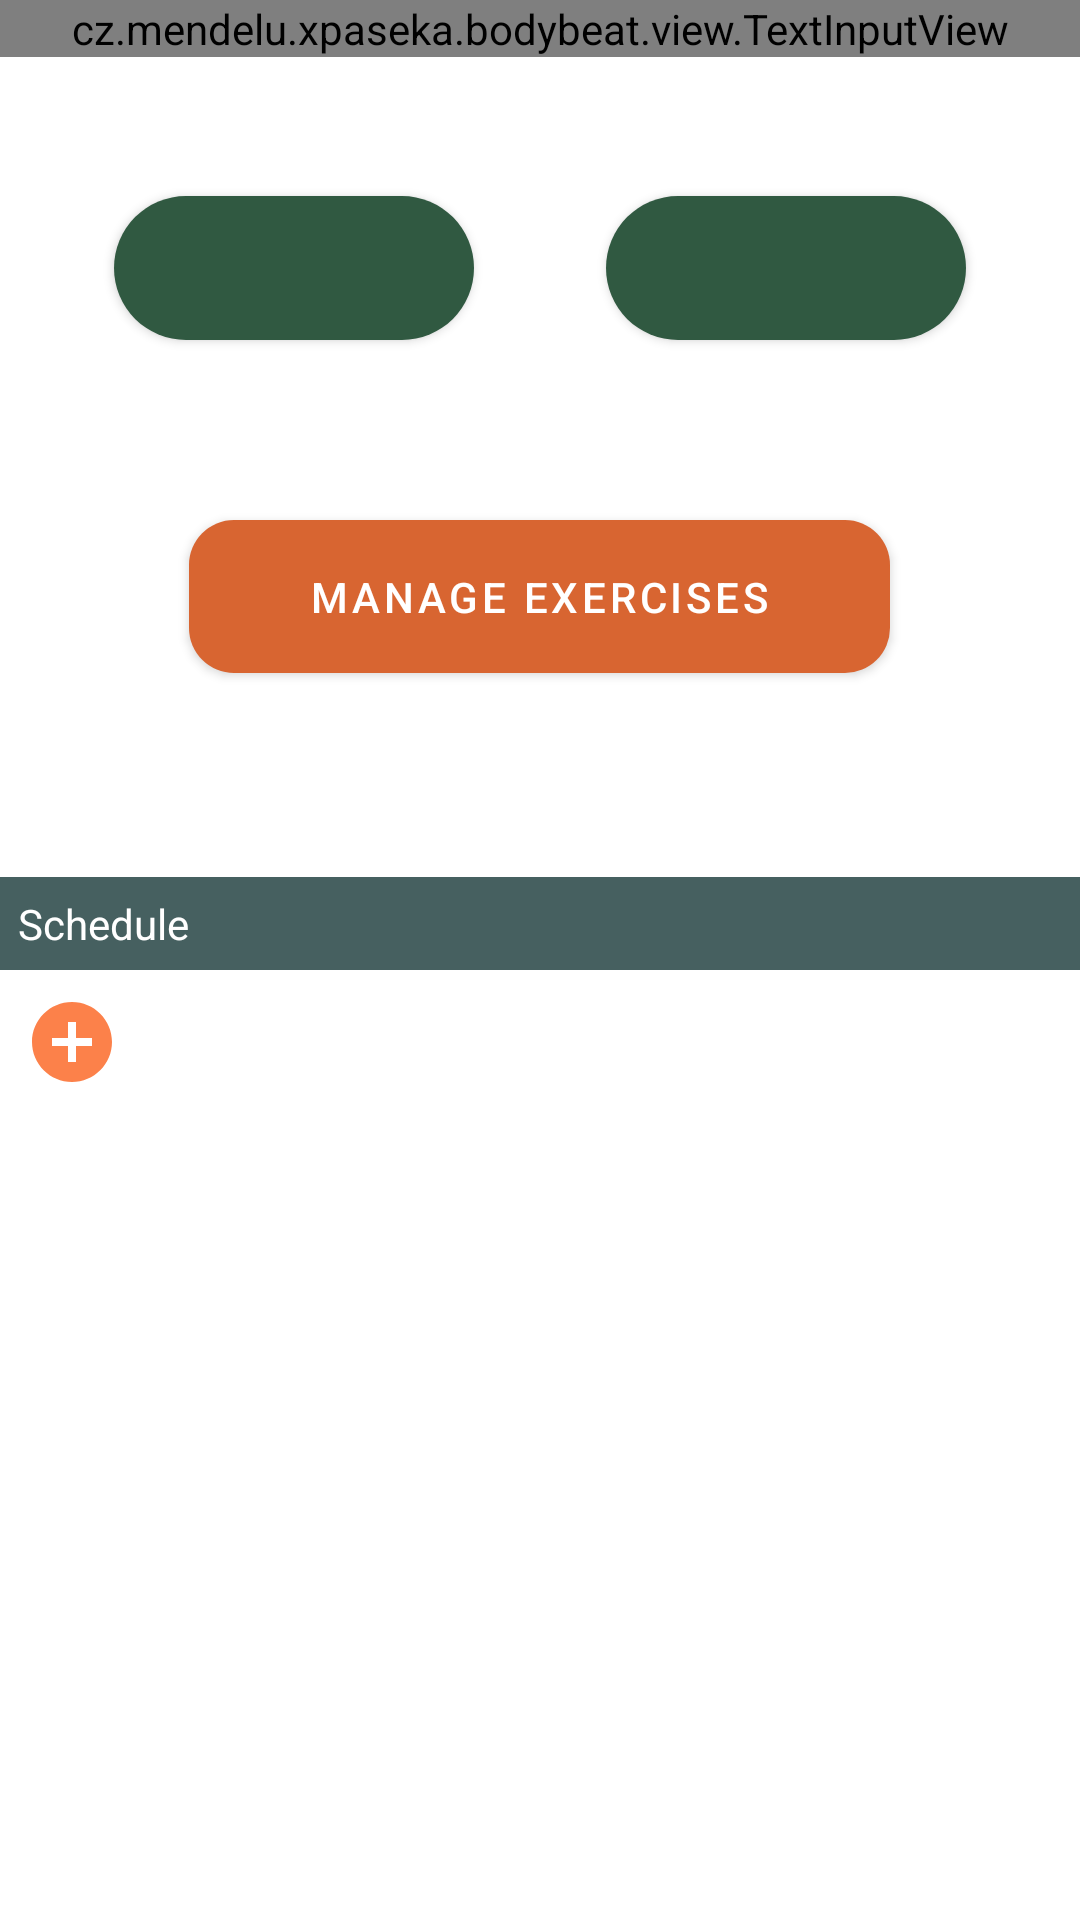

Screen size 1080*1920. Icon name, then its center in pixels as (x,y):
add circle: (72,1042)
